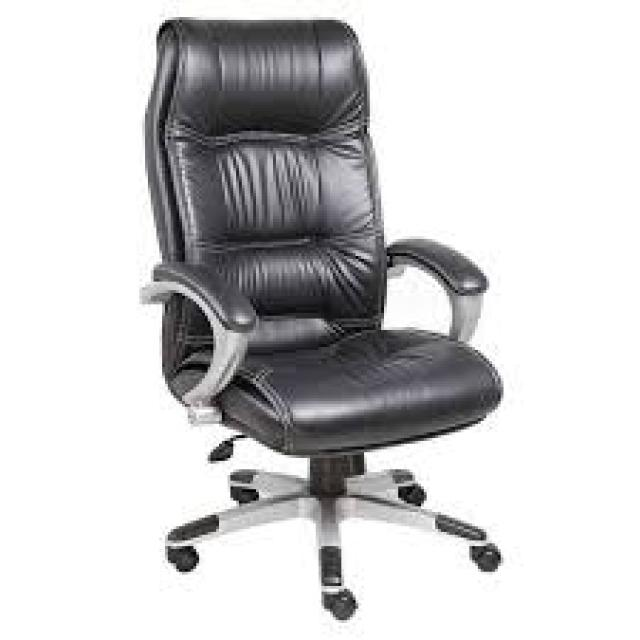chair: (66, 11, 522, 640)
